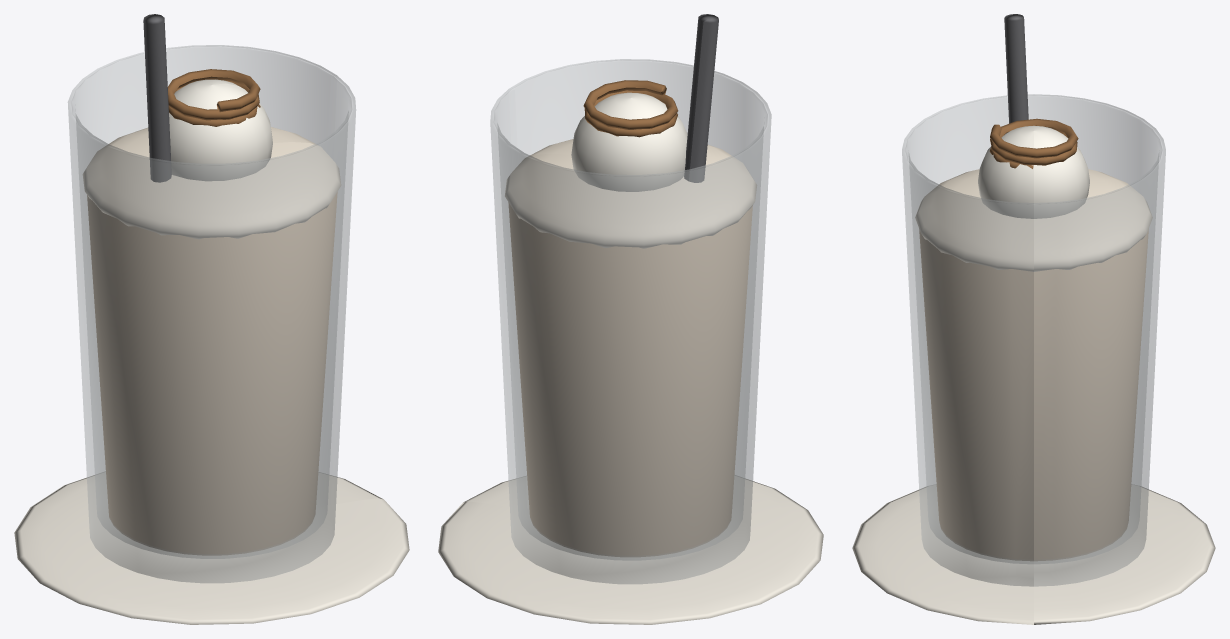
The model's file is cold-coffee.glb.
3 renders of one model, left to right at view 1: azimuth 30°, elevation 25°; view 2: azimuth 150°, elevation 25°; view 3: azimuth 270°, elevation 25°, orthographic. The views are drawn at different scales.
Visible parts, largest first — view 1: cold-coffee; view 2: cold-coffee; view 3: cold-coffee.
Boxes of the visible parts, left/top/right/bottom form: cold-coffee: left=14, top=14, right=409, bottom=624; cold-coffee: left=438, top=14, right=823, bottom=624; cold-coffee: left=852, top=14, right=1215, bottom=624.
Bounding box in the file's own units: 0.11 × 0.1702 × 0.11.
